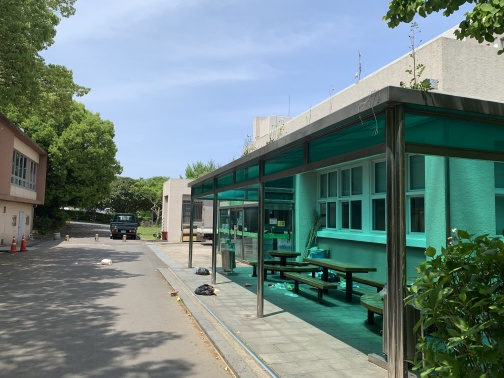Ara Hall: (176, 84, 501, 371)
